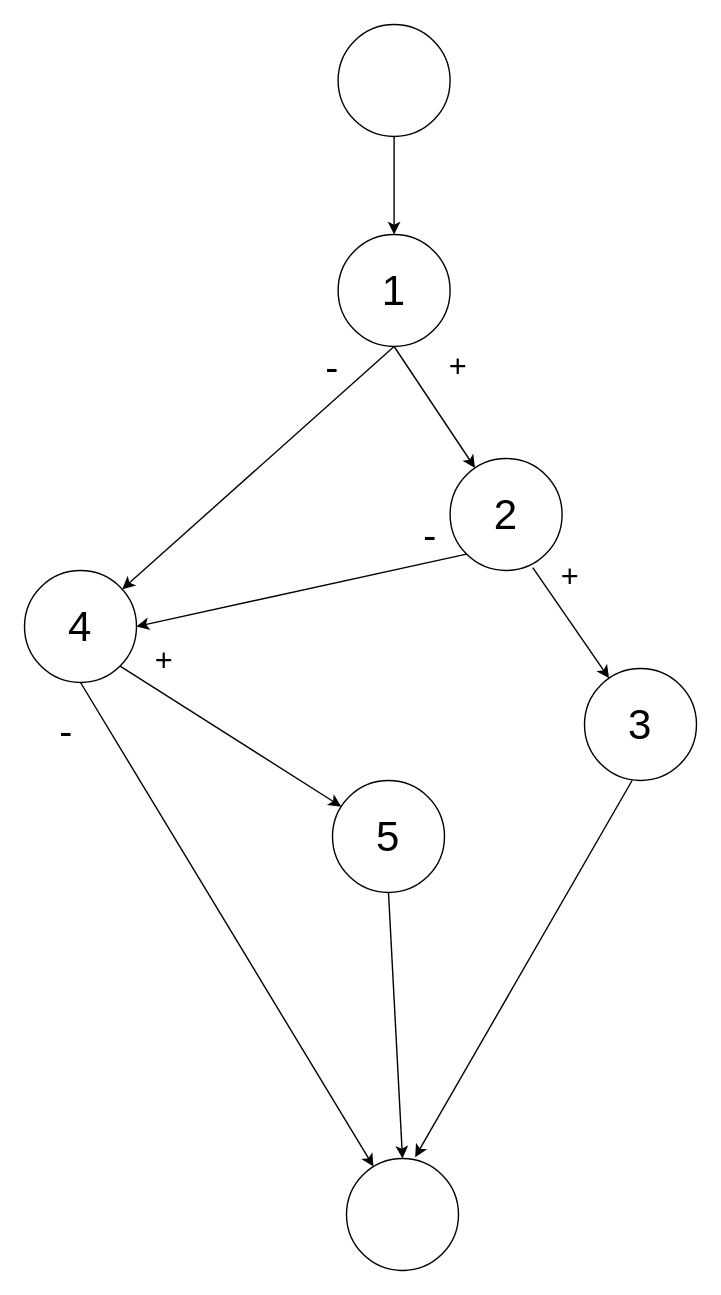
The diagram is 721 pixels wide and 1295 high, and some of its shapes have lost their labels. The centre of each missing label's shape, as x and y in pixels:
"Fin" goes at [401,1213].
"Inicio" goes at [393,79].
